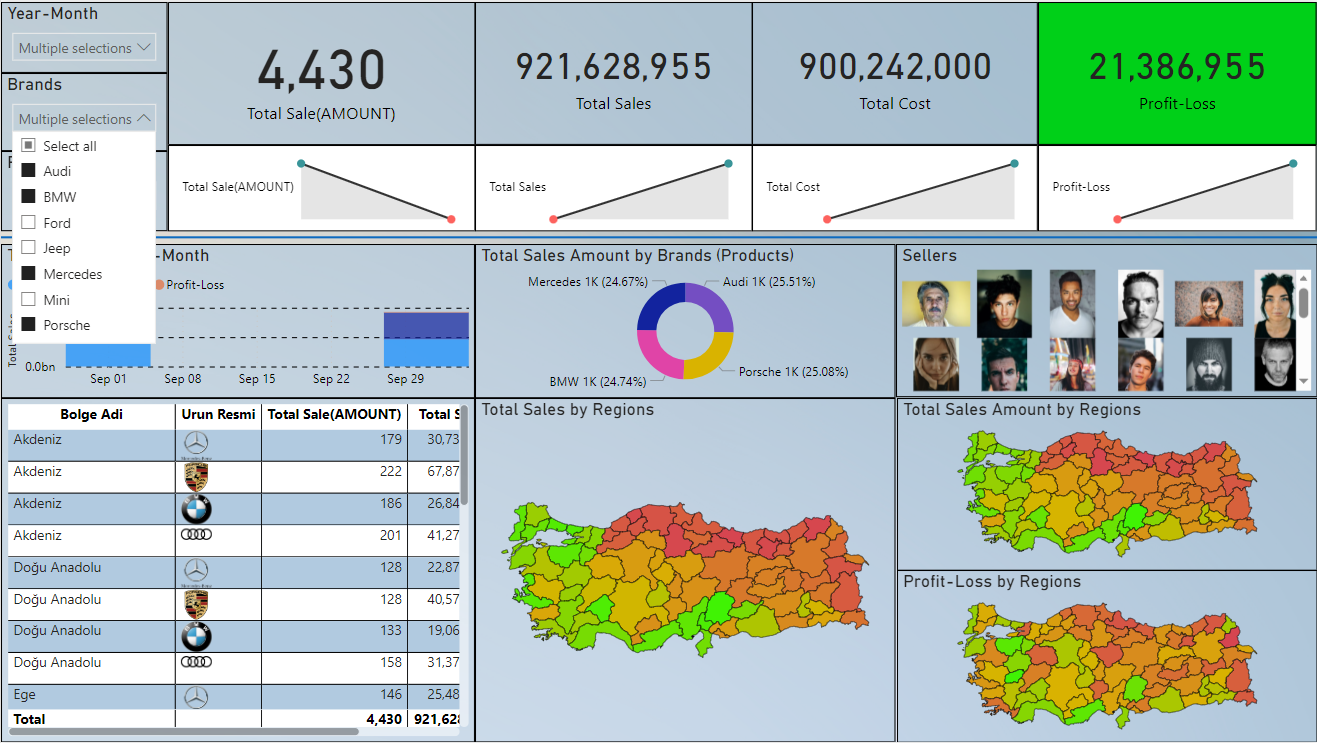

The page's visual inventory and layout, read from the dashboard file:
{"tool":"powerbi","page":{"name":"Sales by Regions","canvas":[1280,720],"ordinal":0},"visuals":[{"type":"slicer","title":"Year-Month","fields":{"Values":["Satis Verileri.Yil-Ay"]},"box":[0,0,162.4,69.4],"z":0},{"type":"slicer","title":"Brands","fields":{"Values":["Urunler.Urun Adi"]},"box":[0,69.4,162.4,75.5],"z":1000},{"type":"card","fields":{"Values":["Measurements.Total Sale(AMOUNT)"]},"box":[162.4,0,298.5,138.7],"z":2000},{"type":"card","fields":{"Values":["Measurements.Total Sales"]},"box":[461,0,269.6,138.7],"z":3000},{"type":"card","fields":{"Values":["Measurements.Total Cost"]},"box":[730.5,0,278.3,138.7],"z":4000},{"type":"card","fields":{"Values":["Measurements.Profit-Loss"]},"box":[1008.9,0,271.3,138.7],"z":5000},{"type":"PBI_CV_25997FEB_F466_44FA_B562_AC4063283C4C","fields":{"axis":["Satis Verileri.Yil-Ay"],"measure":["Measurements.Total Sale(AMOUNT)"]},"box":[162.4,138.7,298.5,84.3],"z":6000},{"type":"PBI_CV_25997FEB_F466_44FA_B562_AC4063283C4C","fields":{"axis":["Satis Verileri.Yil-Ay"],"measure":["Measurements.Total Sales"]},"box":[461,138.7,269.6,84.3],"z":7000},{"type":"PBI_CV_25997FEB_F466_44FA_B562_AC4063283C4C","fields":{"axis":["Satis Verileri.Yil-Ay"],"measure":["Measurements.Total Cost"]},"box":[730.5,138.7,278.3,84.3],"z":8000},{"type":"PBI_CV_25997FEB_F466_44FA_B562_AC4063283C4C","fields":{"axis":["Satis Verileri.Yil-Ay"],"measure":["Measurements.Profit-Loss"]},"box":[1008.9,138.7,271.3,84.3],"z":9000},{"type":"columnChart","title":"Total Sales by Year-Month","fields":{"Category":["Satis Verileri.Yil-Ay"],"Y":["Measurements.Total Sales","Measurements.Total Cost","Measurements.Profit-Loss"]},"box":[0,235.3,461,150.1],"z":10000},{"type":"shape","box":[0,223,1280.2,12.3],"z":11000},{"type":"donutChart","title":"Total Sales Amount by Brands (Products)","fields":{"Y":["Measurements.Total Sale(AMOUNT)"],"Category":["Satis Verileri.Urun Adi"]},"box":[461,235.3,409.2,150.1],"z":12000},{"type":"tableEx","fields":{"Values":["Bolgeler.Bolge Adi","Urunler.Urun Resmi","Measurements.Total Sale(AMOUNT)","Measurements.Total Sales","Measurements.Total Cost"]},"box":[0,385.5,461,334.5],"z":13000},{"type":"shapeMap","title":"Total Sales by Regions","fields":{"Category":["Satis Verileri.Satis Merkezi"],"Value":["Measurements.Total Sales"]},"box":[461,385,409,335],"z":14000},{"type":"slicer","title":"Regions","fields":{"Values":["Bolgeler.Bolge Adi"]},"box":[0,144.9,162.4,78.1],"z":15000},{"type":"ImageGrid_FC5183B9_926C_45E0_B5F7_0CE9EAF1DA9B","title":"Sellers","fields":{"ImageURLHQ":["Saticilar.Fotograf Linki"]},"box":[870.1,235.3,410,149.3],"z":16000},{"type":"shapeMap","title":"Total Sales Amount by Regions","fields":{"Category":["Satis Verileri.Satis Merkezi"],"Value":["Measurements.Total Sale(AMOUNT)"]},"box":[871,385.5,409.2,167.7],"z":17000},{"type":"shapeMap","title":"Profit-Loss by Regions","fields":{"Category":["Satis Verileri.Satis Merkezi"],"Value":["Measurements.Profit-Loss"]},"box":[871,552.3,409.2,167.7],"z":18000}]}

Visuals, with their boxes in screenshot pixels (x1, y1, x2, y2), scaled from the page's 1280x720 canvas onto the 1317x743 screenshot:
"Year-Month" slicer: bbox(0, 0, 167, 72)
"Brands" slicer: bbox(0, 72, 167, 150)
card - Measurements.Total Sale(AMOUNT): bbox(167, 0, 474, 143)
card - Measurements.Total Sales: bbox(474, 0, 752, 143)
card - Measurements.Total Cost: bbox(752, 0, 1038, 143)
card - Measurements.Profit-Loss: bbox(1038, 0, 1316, 143)
PBI_CV_25997FEB_F466_44FA_B562_AC4063283C4C - Satis Verileri.Yil-Ay x Measurements.Total Sale(AMOUNT): bbox(167, 143, 474, 230)
PBI_CV_25997FEB_F466_44FA_B562_AC4063283C4C - Satis Verileri.Yil-Ay x Measurements.Total Sales: bbox(474, 143, 752, 230)
PBI_CV_25997FEB_F466_44FA_B562_AC4063283C4C - Satis Verileri.Yil-Ay x Measurements.Total Cost: bbox(752, 143, 1038, 230)
PBI_CV_25997FEB_F466_44FA_B562_AC4063283C4C - Satis Verileri.Yil-Ay x Measurements.Profit-Loss: bbox(1038, 143, 1316, 230)
"Total Sales by Year-Month" columnChart: bbox(0, 243, 474, 398)
shape: bbox(0, 230, 1316, 243)
"Total Sales Amount by Brands (Products)" donutChart: bbox(474, 243, 895, 398)
tableEx - Bolgeler.Bolge Adi x Urunler.Urun Resmi: bbox(0, 398, 474, 742)
"Total Sales by Regions" shapeMap: bbox(474, 397, 895, 742)
"Regions" slicer: bbox(0, 150, 167, 230)
"Sellers" ImageGrid_FC5183B9_926C_45E0_B5F7_0CE9EAF1DA9B: bbox(895, 243, 1316, 397)
"Total Sales Amount by Regions" shapeMap: bbox(896, 398, 1316, 571)
"Profit-Loss by Regions" shapeMap: bbox(896, 570, 1316, 742)
